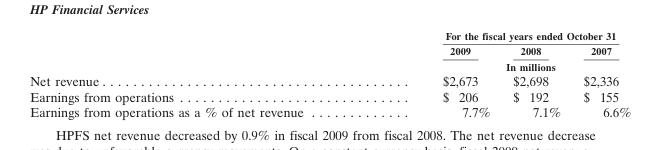table: (29, 28, 630, 119)
table column: (29, 28, 372, 119), (372, 28, 500, 119), (500, 28, 571, 119), (571, 28, 630, 119)
table column header: (29, 28, 630, 72)
table row: (29, 42, 630, 58), (29, 72, 630, 88), (29, 103, 630, 119), (29, 88, 630, 103), (29, 28, 630, 42), (29, 58, 630, 72)
table spanning cell: (372, 28, 630, 42), (372, 58, 630, 72)
